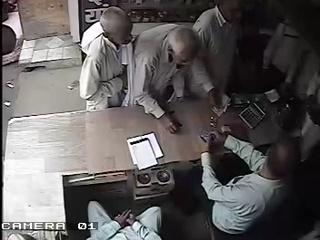Normal: (200, 99, 302, 240), (121, 23, 202, 134), (188, 0, 244, 110), (85, 200, 163, 240)
shoplifting: (78, 6, 134, 112)
